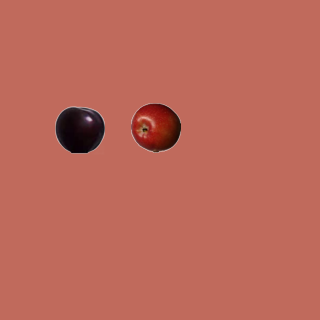Apple Braeburn: (130, 102, 180, 152)
Cherry Wax Black: (54, 104, 104, 154)
